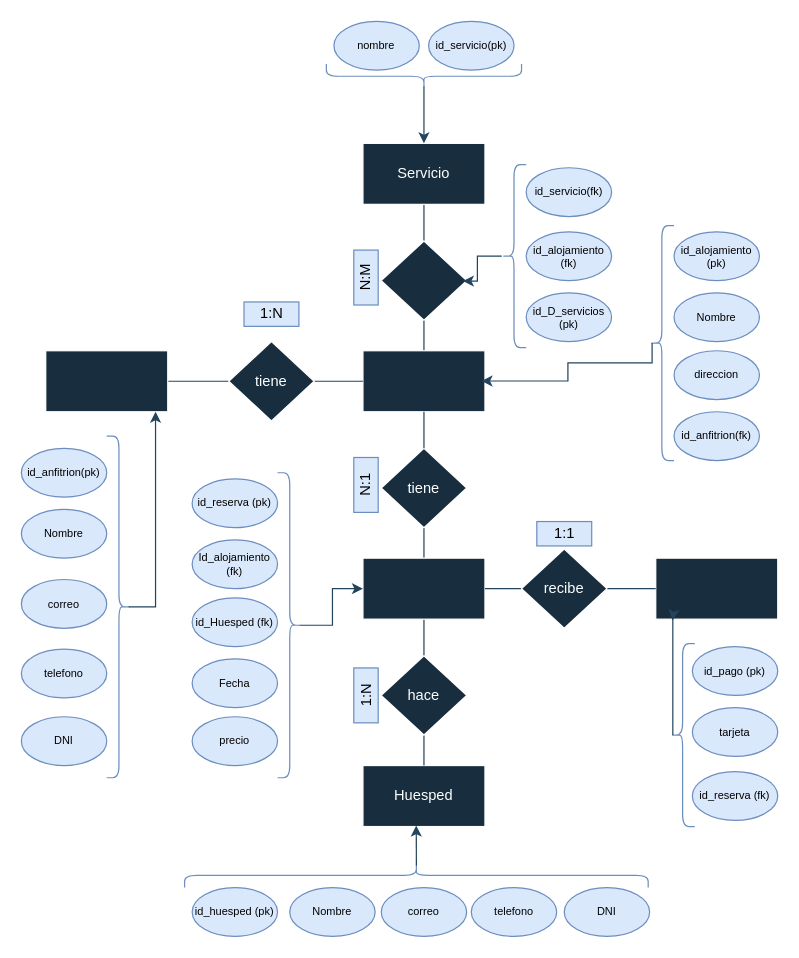
Some shapes in this 799 by 958 pixel diagram are drawn without their labels. The shapes that lost their labels are listed below. From the top down, each one's centre as x and y in pixels, then its label:
(423,280): ofrece
(106,381): Anfitrion
(423,381): Alojamiento
(423,588): Reserva
(716,588): Pago
